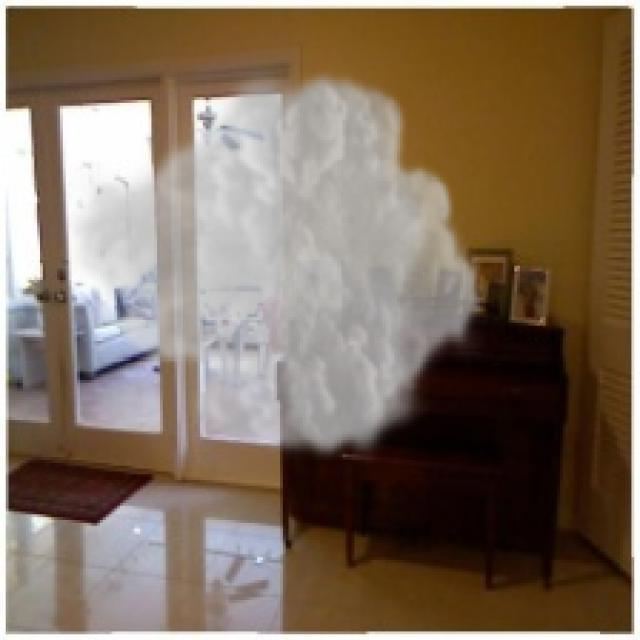Smoke: (66, 63, 486, 466)
